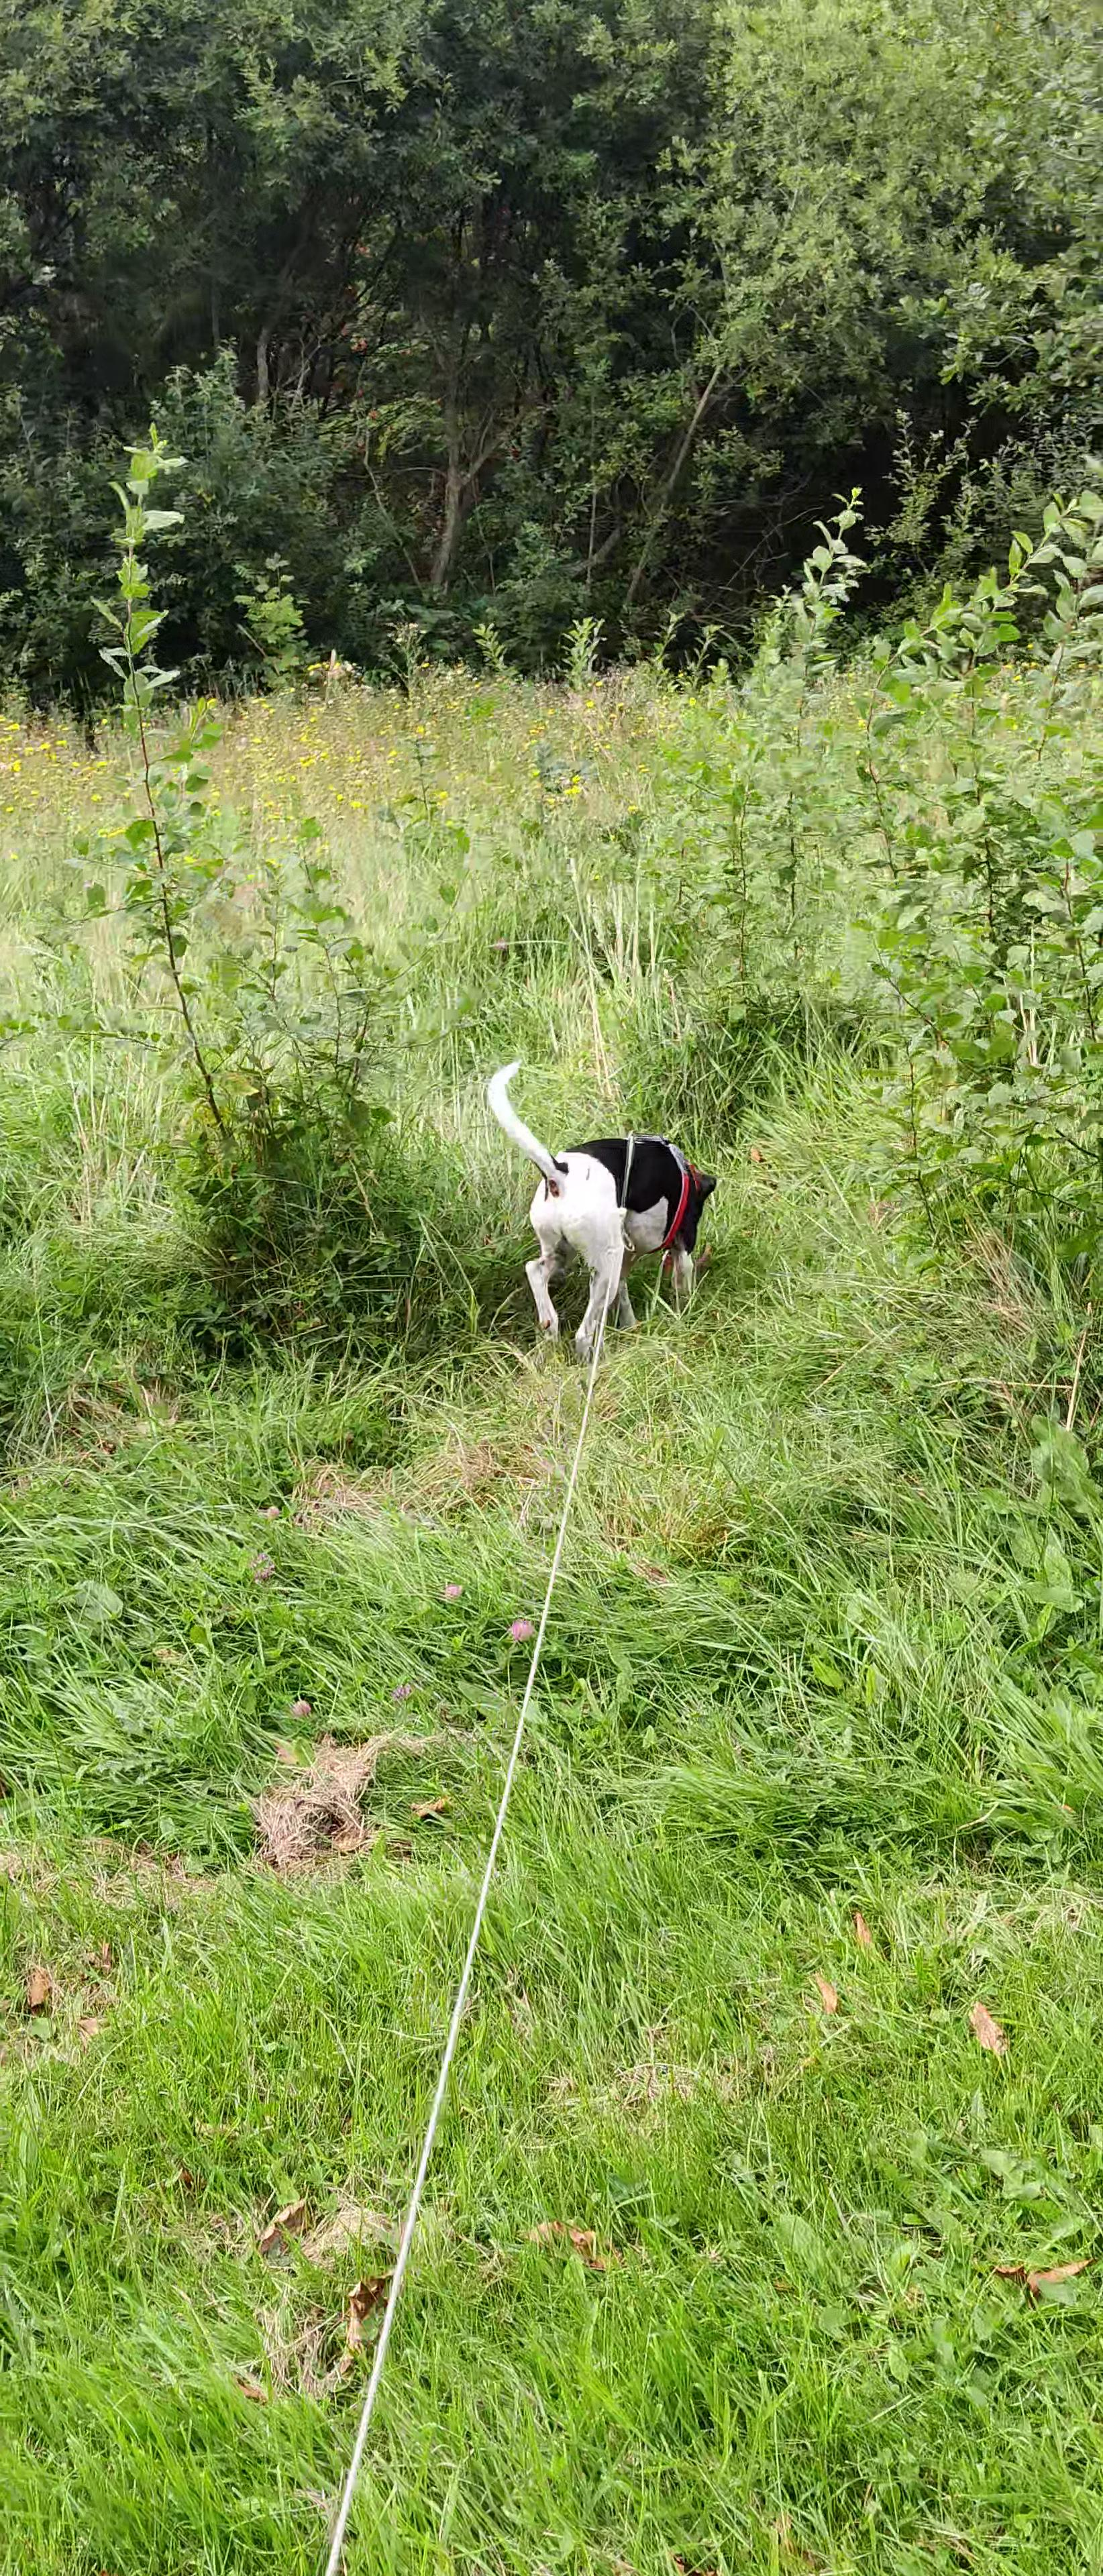Dog: (475, 1040, 730, 1372)
